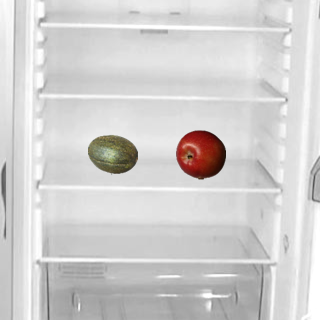Apple Braeburn: (175, 129, 225, 179)
Melon Piel de Sapo: (87, 129, 137, 179)
